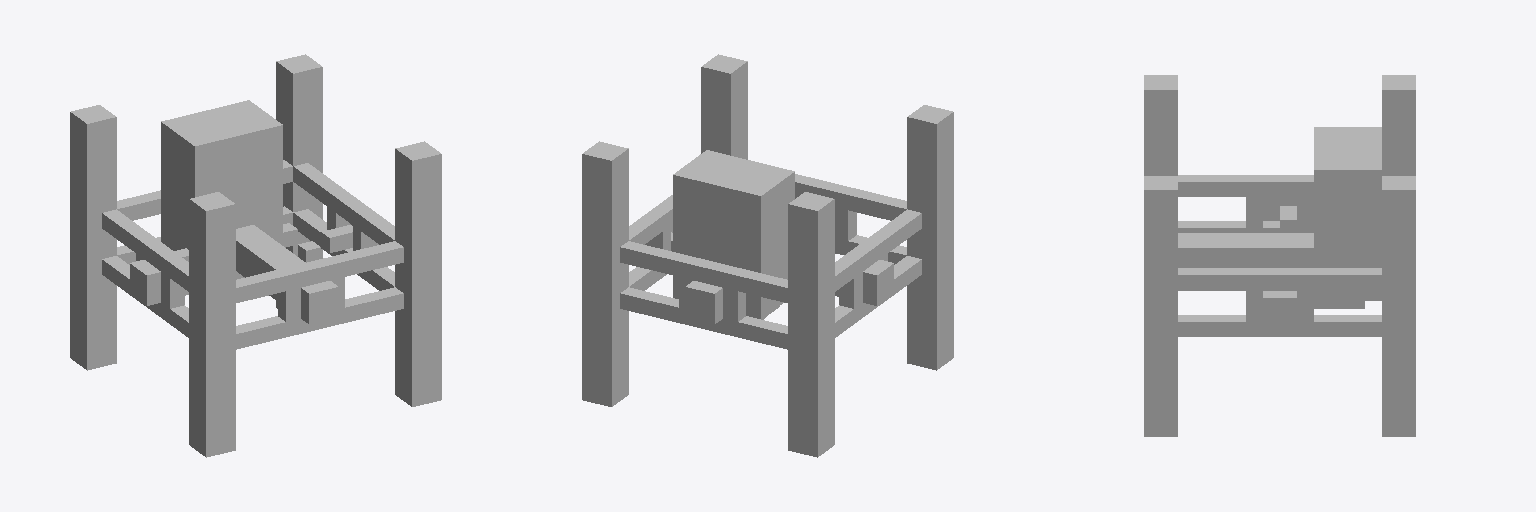
Rendered from power_generators_shaft_rpm_meter.obj.
The picture shows the model from 3 angles: view 1: azimuth 30°, elevation 25°; view 2: azimuth 150°, elevation 25°; view 3: azimuth 270°, elevation 25°; orthographic projection.
Parts seen in each view (by area): view 1: node_0_0_0.026; view 2: node_0_0_0.026; view 3: node_0_0_0.026.
Part boxes in pixels (x1,y1,x2,y2): node_0_0_0.026: (70, 54, 441, 457); node_0_0_0.026: (582, 54, 953, 457); node_0_0_0.026: (1144, 75, 1415, 436).
Size of the model in its own units: 1 by 1 by 1.